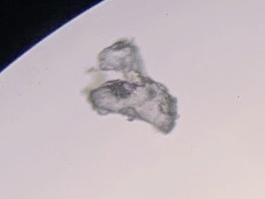microplastic: (80, 39, 181, 135)
